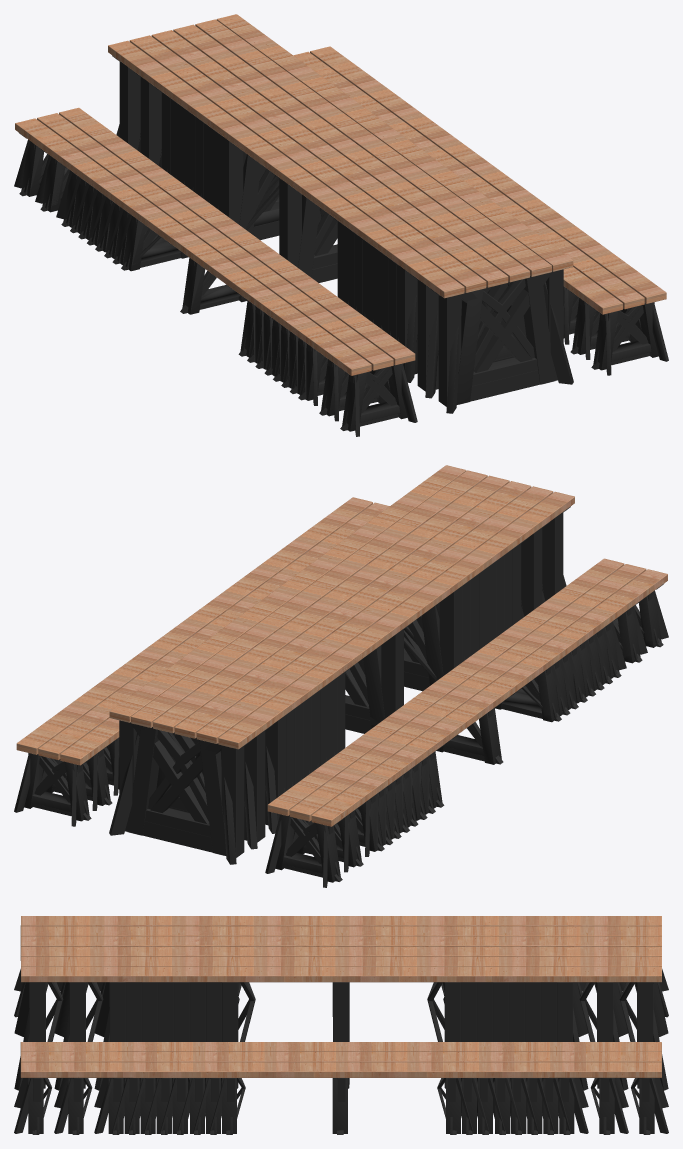
Rendered from picknick.glb.
The picture shows the model from 3 angles, top to bottom: view 1: azimuth 30°, elevation 25°; view 2: azimuth 150°, elevation 25°; view 3: azimuth 270°, elevation 25°; orthographic projection. The views are drawn at different scales.
Parts seen in each view (by area): view 1: Table_top_400, Table_legs_Ushape, 3planks_bench1_350, 3planks_bench2_350, Table_legs_Aframe, 3planks_bench1_400, 3planks_bench2_400, Benchlegs1_3planks_Aframe_400, Table_legs_diagonalpole, Table_legs_Xshape, Benchlegs1_3planks_Aframe_350, Table_legs_Xmodern (+21 smaller); view 2: Table_top_400, Table_legs_Ushape, 3planks_bench1_350, 3planks_bench2_350, Table_legs_Aframe, 3planks_bench1_400, Table_legs_diagonalpole, Table_top_350, 3planks_bench2_400, Benchlegs1_3planks_Aframe_400, Table_legs_Xshape, Benchlegs1_3planks_Aframe_350 (+18 smaller); view 3: Table_top_400, Table_legs_Ushape, 3planks_bench2_350, 3planks_bench2_400, Table_legs_diagonalpole, Table_legs_butterfly, 3planks_bench2_240, Table_top_280, Table_top_300, Table_top_180, Benchlegs2_3planks_Aframe_350, Benchlegs2_3planks_Aframe_400 (+38 smaller).
Part boxes in pixels (bbox=[...]): Table_top_400: bbox=[108, 14, 573, 298]; Table_legs_Ushape: bbox=[119, 62, 563, 406]; 3planks_bench1_350: bbox=[36, 123, 393, 359]; 3planks_bench2_350: bbox=[314, 62, 644, 297]; Table_legs_Aframe: bbox=[112, 55, 555, 404]; 3planks_bench1_400: bbox=[15, 107, 415, 375]; 3planks_bench2_400: bbox=[293, 46, 666, 314]; Benchlegs1_3planks_Aframe_400: bbox=[19, 133, 407, 431]; Table_legs_diagonalpole: bbox=[116, 124, 573, 413]; Table_legs_Xshape: bbox=[255, 179, 552, 372]; Benchlegs1_3planks_Aframe_350: bbox=[40, 148, 385, 416]; Table_legs_Xmodern: bbox=[256, 165, 534, 370]; Table_top_400: bbox=[109, 465, 574, 749]; Table_legs_Ushape: bbox=[119, 513, 563, 857]; 3planks_bench1_350: bbox=[289, 574, 646, 810]; 3planks_bench2_350: bbox=[38, 512, 368, 749]; Table_legs_Aframe: bbox=[127, 506, 570, 855]; 3planks_bench1_400: bbox=[267, 558, 667, 826]; Table_legs_diagonalpole: bbox=[109, 575, 566, 864]; Table_top_350: bbox=[151, 486, 553, 733]; 3planks_bench2_400: bbox=[16, 497, 389, 765]; Benchlegs1_3planks_Aframe_400: bbox=[275, 584, 663, 882]; Table_legs_Xshape: bbox=[130, 630, 427, 823]; Benchlegs1_3planks_Aframe_350: bbox=[297, 599, 642, 867]; Table_top_400: bbox=[21, 916, 661, 982]; Table_legs_Ushape: bbox=[29, 983, 653, 1088]; 3planks_bench2_350: bbox=[61, 1042, 621, 1077]; 3planks_bench2_400: bbox=[20, 1042, 661, 1077]; Table_legs_diagonalpole: bbox=[14, 982, 668, 1090]; Table_legs_butterfly: bbox=[46, 982, 636, 1041]; 3planks_bench2_240: bbox=[149, 1061, 532, 1077]; Table_top_280: bbox=[117, 935, 565, 981]; Table_top_300: bbox=[101, 925, 581, 982]; Table_top_180: bbox=[197, 935, 485, 981]; Benchlegs2_3planks_Aframe_350: bbox=[68, 1078, 614, 1133]; Benchlegs2_3planks_Aframe_400: bbox=[28, 1078, 654, 1133].
Bounding box in the file's own units: 2.18 × 0.7923 × 4.08.
Materials: 2 (2 with a texture image).
